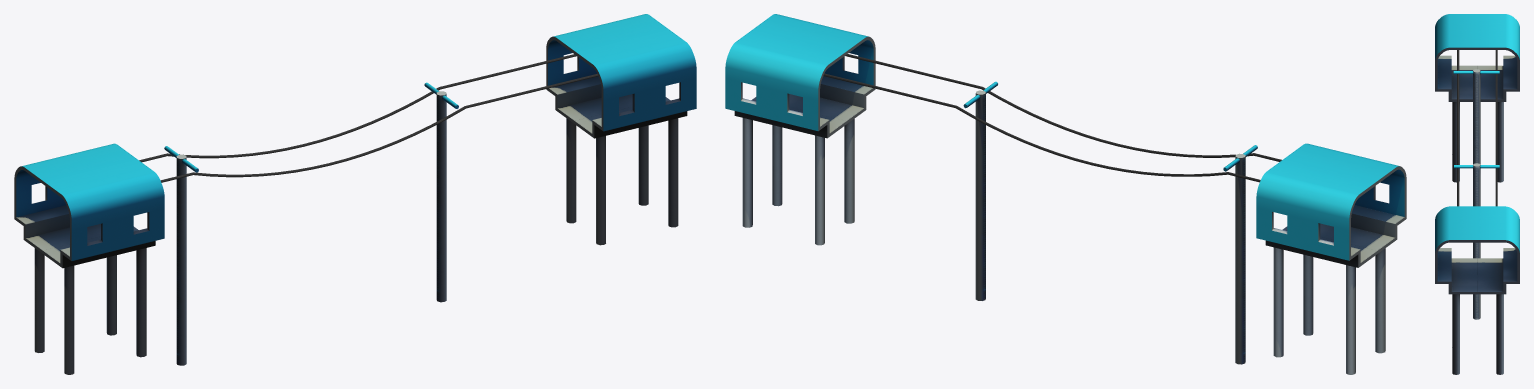
File: KG_jalur.FBX
The picture shows the model from 3 angles, left to right: view 1: azimuth 30°, elevation 25°; view 2: azimuth 150°, elevation 25°; view 3: azimuth 270°, elevation 25°; orthographic projection. The views are drawn at different scales.
Parts seen in each view (by area): view 1: TERMINAL, TERMINAL001, tiang KG001, tiang KG002, Line014, Line013; view 2: TERMINAL, TERMINAL001, tiang KG001, tiang KG002, Line013, Line014; view 3: TERMINAL001, TERMINAL, tiang KG001, tiang KG002, Line013, Line014.
Boxes of the visible parts, x1,y1,x2,y2 form: TERMINAL: (14, 143, 164, 374); TERMINAL001: (546, 14, 696, 245); tiang KG001: (164, 146, 198, 365); tiang KG002: (424, 82, 458, 302); Line014: (160, 73, 598, 182); Line013: (139, 54, 576, 162); TERMINAL: (1256, 143, 1406, 374); TERMINAL001: (725, 14, 875, 245); tiang KG001: (1223, 145, 1257, 364); tiang KG002: (963, 81, 997, 300); Line013: (823, 73, 1260, 182); Line014: (845, 54, 1281, 161); TERMINAL001: (1435, 206, 1519, 374); TERMINAL: (1435, 14, 1519, 182); tiang KG001: (1453, 69, 1499, 164); tiang KG002: (1454, 163, 1499, 319); Line013: (1495, 50, 1497, 206); Line014: (1457, 50, 1459, 206).
Size of the model in its own units: 94.32 by 31.15 by 14.97.
4 materials, 3 textured.
